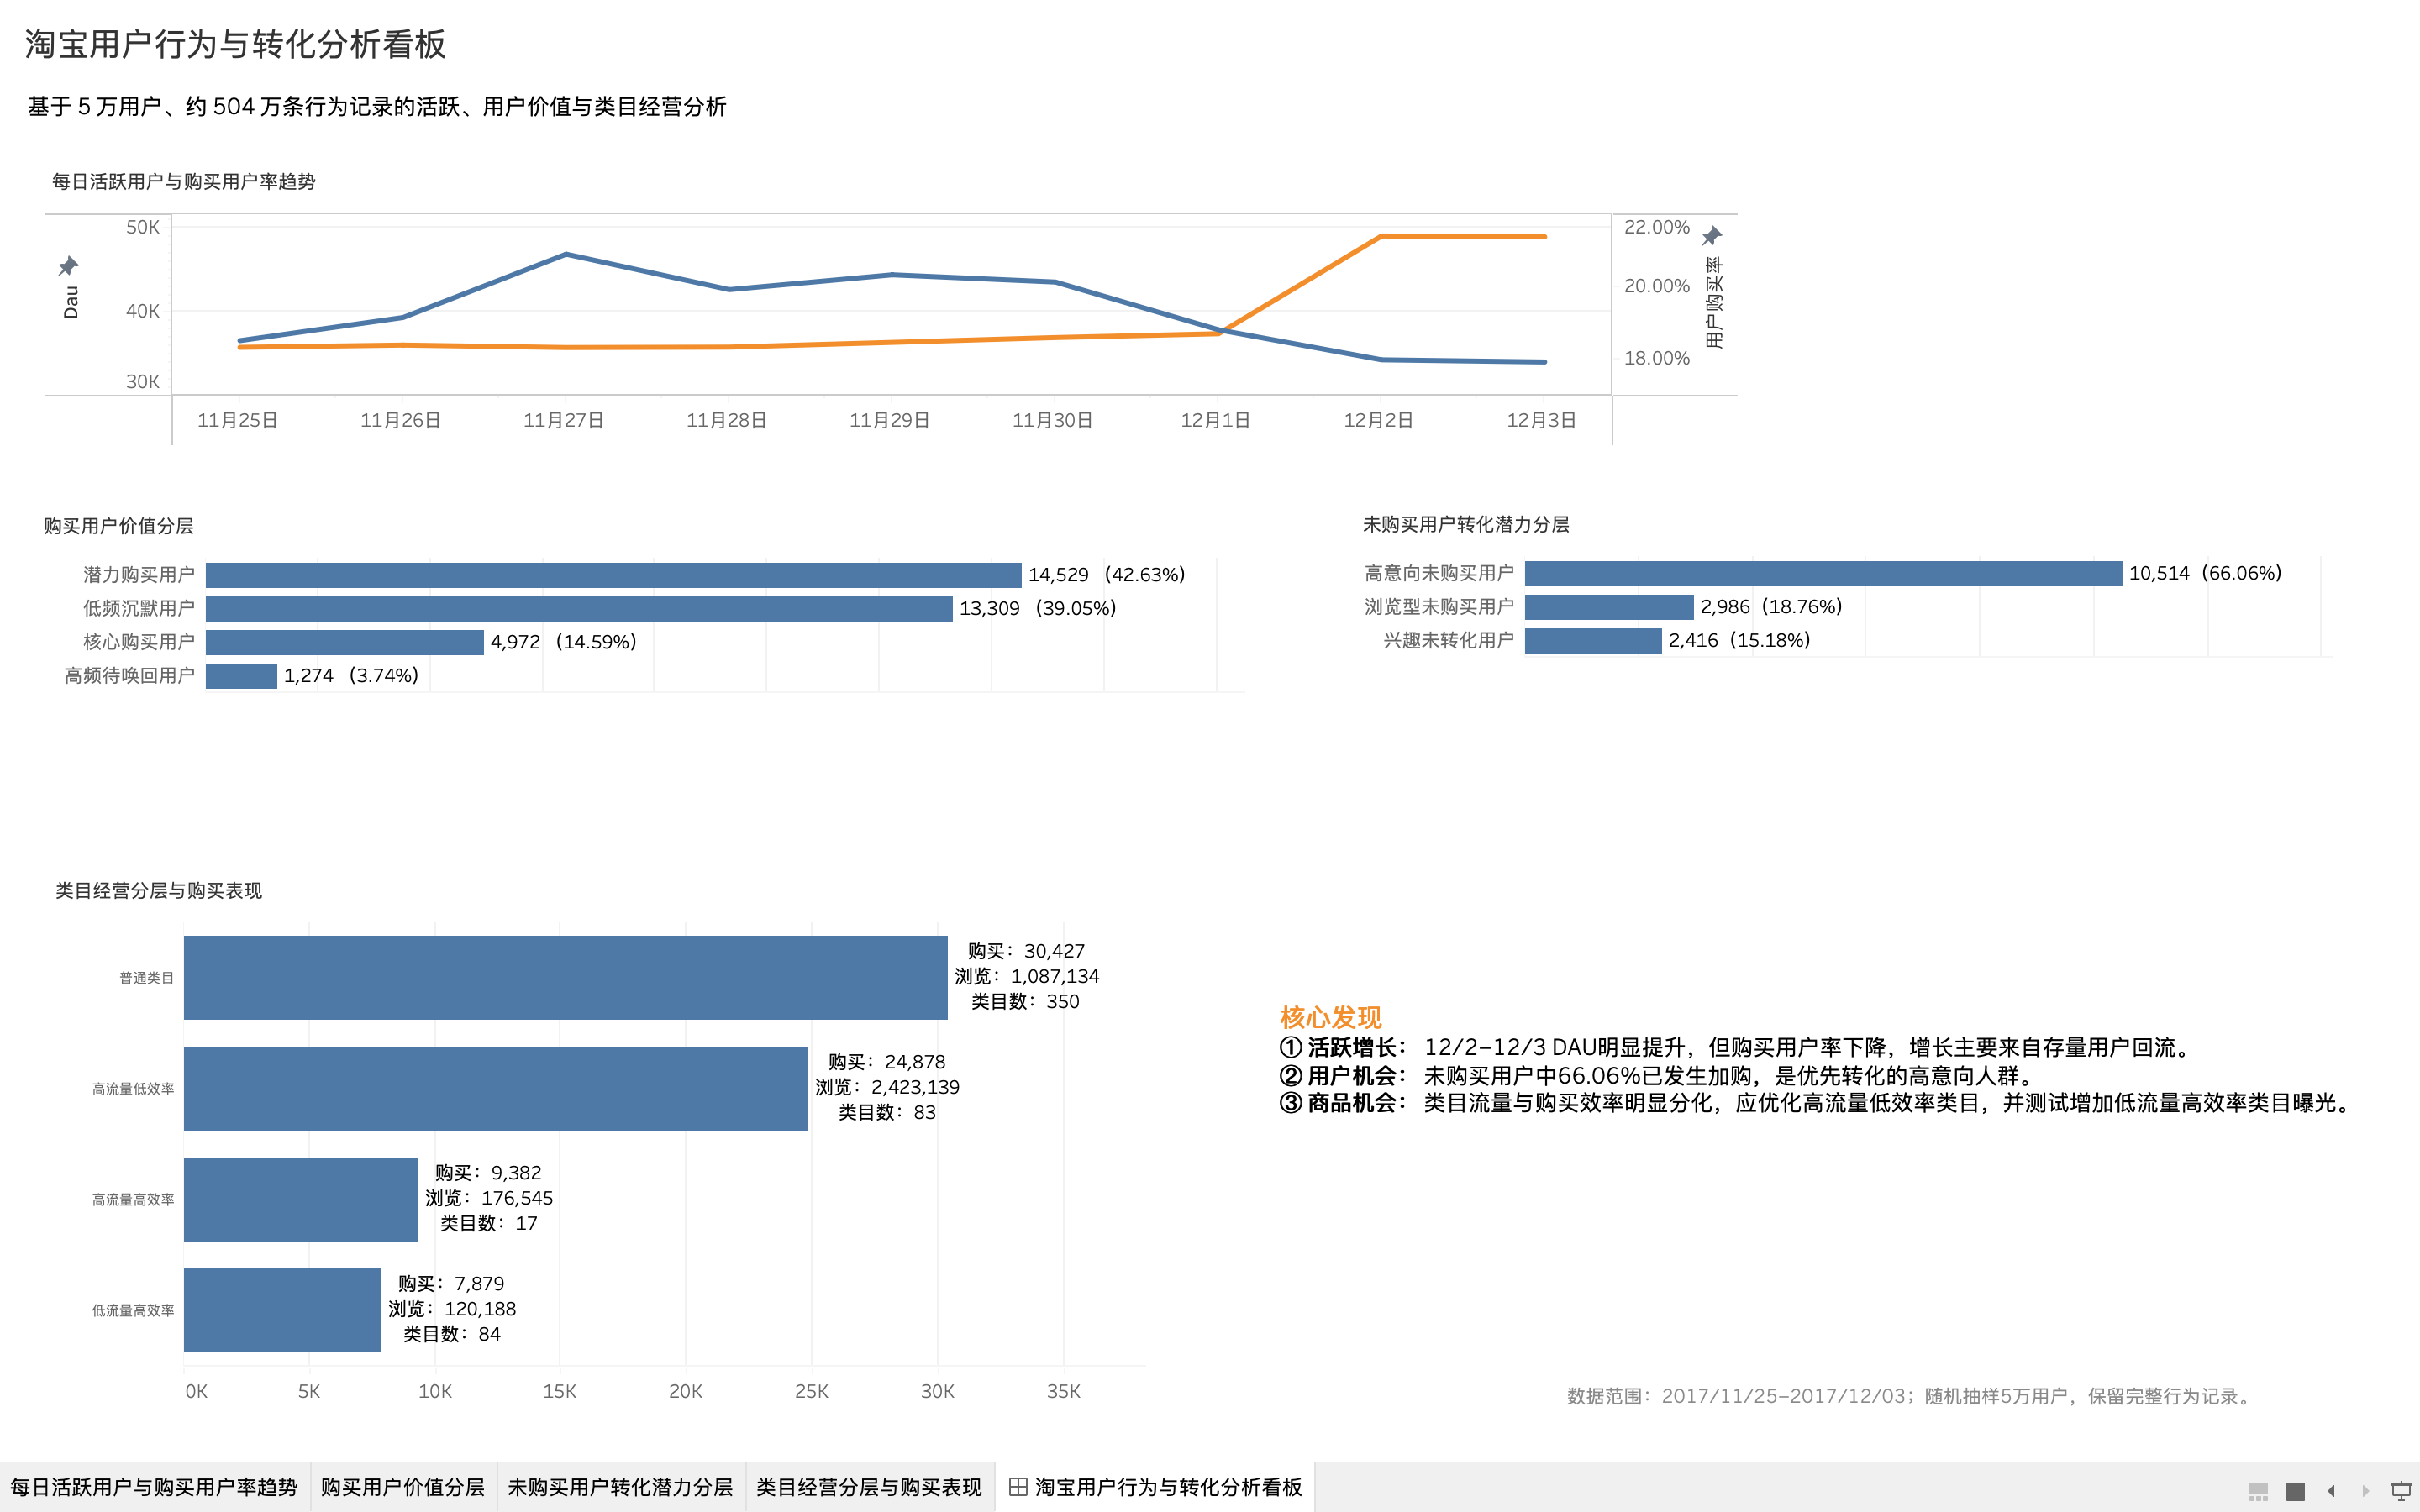

The page's visual inventory and layout, read from the dashboard file:
{"tool":"tableau","page":{"name":"淘宝用户行为与转化分析看板","canvas":[1000,1000],"units":"permille","ordinal":0},"visuals":[{"type":"title","box":[6.5,11.5,987,50.3]},{"type":"text","box":[9.8,51.7,506.9,43.1]},{"type":"worksheet","title":"每日活跃用户与购买用户率趋势","mark":"Automatic","rows":["dau","buy_user_rate"],"cols":["date"],"box":[18.7,110.6,699.8,195.4]},{"type":"worksheet","title":"未购买用户转化潜力分层","mark":"Automatic","rows":["user_segment"],"cols":["user_count"],"box":[560.6,344.8,403.6,281.6]},{"type":"worksheet","title":"购买用户价值分层","mark":"Automatic","rows":["user_segment"],"cols":["user_count"],"box":[15.5,346.3,499.6,254.3]},{"type":"worksheet","title":"类目经营分层与购买表现","mark":"Bar","rows":["category_segment"],"cols":["total_buy"],"box":[20.3,594.8,453.2,362.1]},{"type":"text","box":[527.3,665.2,452.4,122.1]},{"type":"text","box":[646.1,932.5,332.8,46]}]}

Visuals, with their boxes on the dashboard's canvas, which has no fixed pixel size, in thousandths of its width and height (x1, y1, x2, y2). These are canvas units, not pixel positions in the 2420x1512 screenshot, which may show the page scaled, cropped or inside an application window:
title: <bbox>6, 12, 994, 62</bbox>
text: <bbox>10, 52, 517, 95</bbox>
"每日活跃用户与购买用户率趋势" worksheet: <bbox>19, 111, 718, 306</bbox>
"未购买用户转化潜力分层" worksheet: <bbox>561, 345, 964, 626</bbox>
"购买用户价值分层" worksheet: <bbox>16, 346, 515, 601</bbox>
"类目经营分层与购买表现" worksheet (Bar marks): <bbox>20, 595, 474, 957</bbox>
text: <bbox>527, 665, 980, 787</bbox>
text: <bbox>646, 932, 979, 978</bbox>
